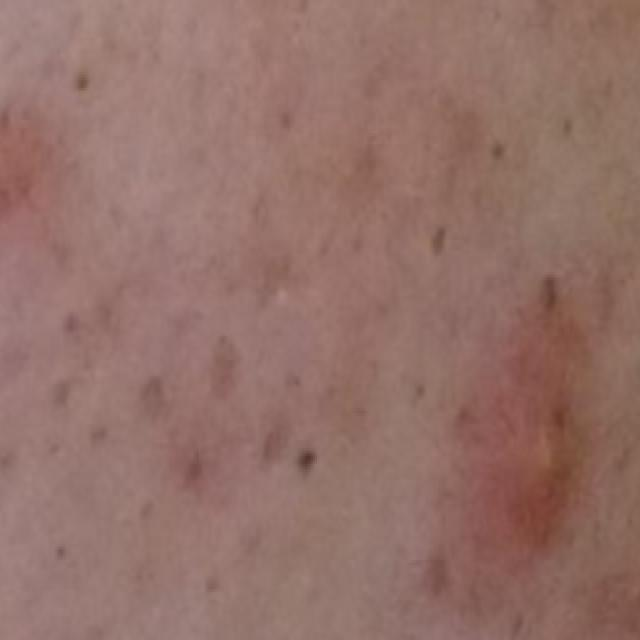blackhead: (539, 276, 557, 310), (295, 447, 318, 473), (432, 227, 446, 256), (550, 408, 566, 429), (73, 72, 89, 92), (62, 311, 75, 331), (490, 142, 503, 160), (561, 119, 571, 136), (56, 544, 65, 562), (416, 384, 426, 399)
nodule: (497, 399, 570, 532)
